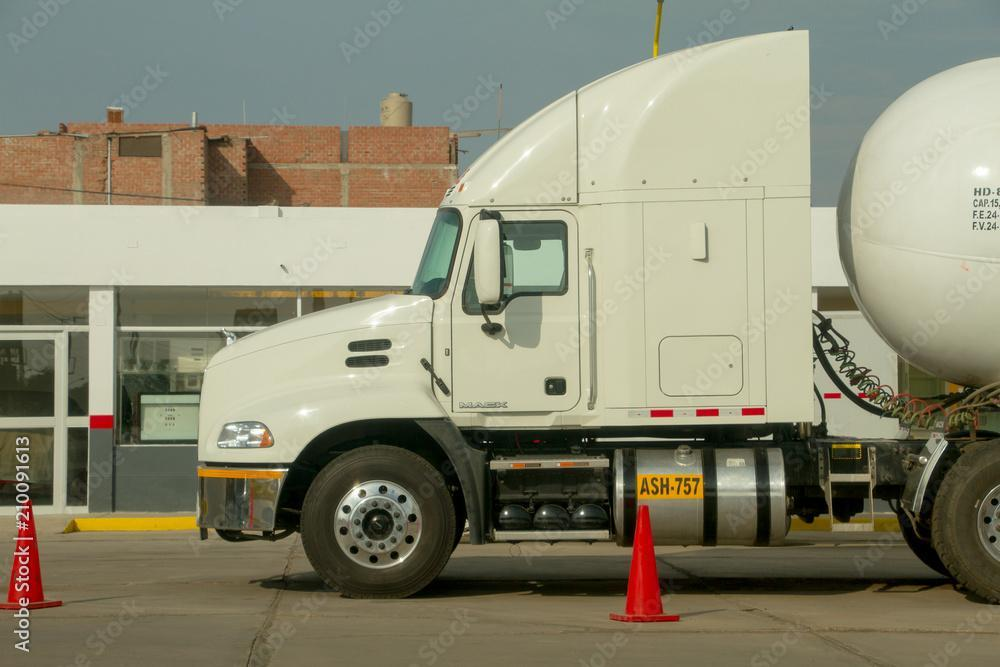truck: (122, 20, 1000, 638)
